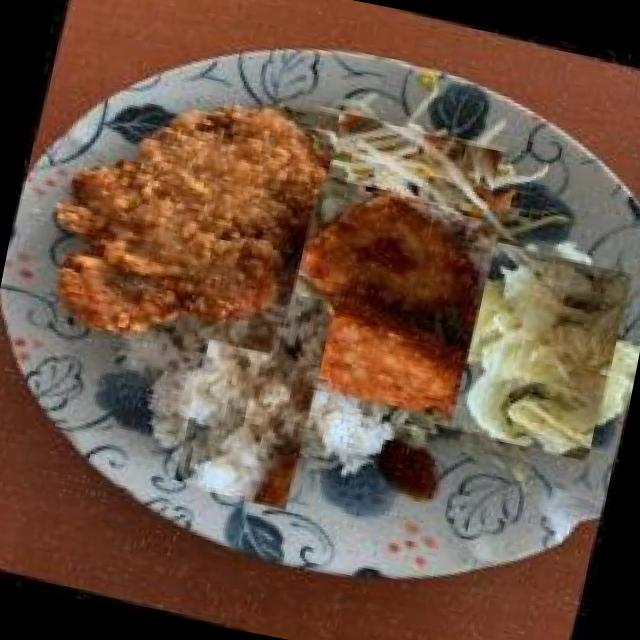chinese_cabbage: (448, 237, 636, 463)
fried_chicken: (54, 69, 337, 360)
mung_bean_sprouts: (326, 112, 505, 218)
rice: (154, 292, 358, 494)
triangle_hash_brown: (272, 178, 504, 424)
